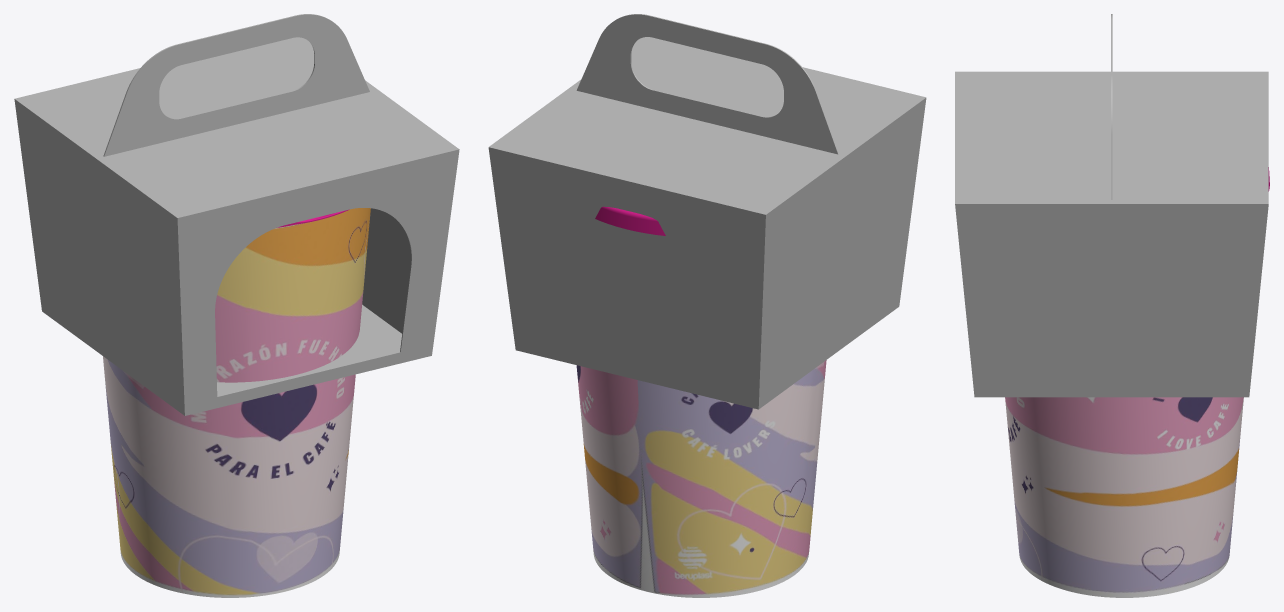
File: Caja002.glb
3 views of the same model, side by side, from view 1: azimuth 30°, elevation 25°; view 2: azimuth 150°, elevation 25°; view 3: azimuth 270°, elevation 25° (orthographic). The views are drawn at different scales.
Visible parts, largest first — view 1: object_1_n3d, object_1%2E002_n3d, object_2_n3d; view 2: object_1_n3d, object_1%2E002_n3d, object_2_n3d, tapa pico; view 3: object_1_n3d, object_1%2E002_n3d.
Part boxes in pixels (box(x1,y1,x2,y2)): object_1_n3d: box(14, 37, 459, 415); object_1%2E002_n3d: box(103, 208, 370, 597); object_2_n3d: box(103, 14, 369, 156); object_1_n3d: box(488, 37, 926, 409); object_1%2E002_n3d: box(576, 360, 826, 597); object_2_n3d: box(576, 14, 838, 154); tapa pico: box(595, 206, 665, 235); object_1_n3d: box(955, 71, 1268, 397); object_1%2E002_n3d: box(1005, 397, 1243, 597).
Size of the model in its own units: 1.27 by 2.26 by 1.27.
Materials: 4 (1 with a texture image).
